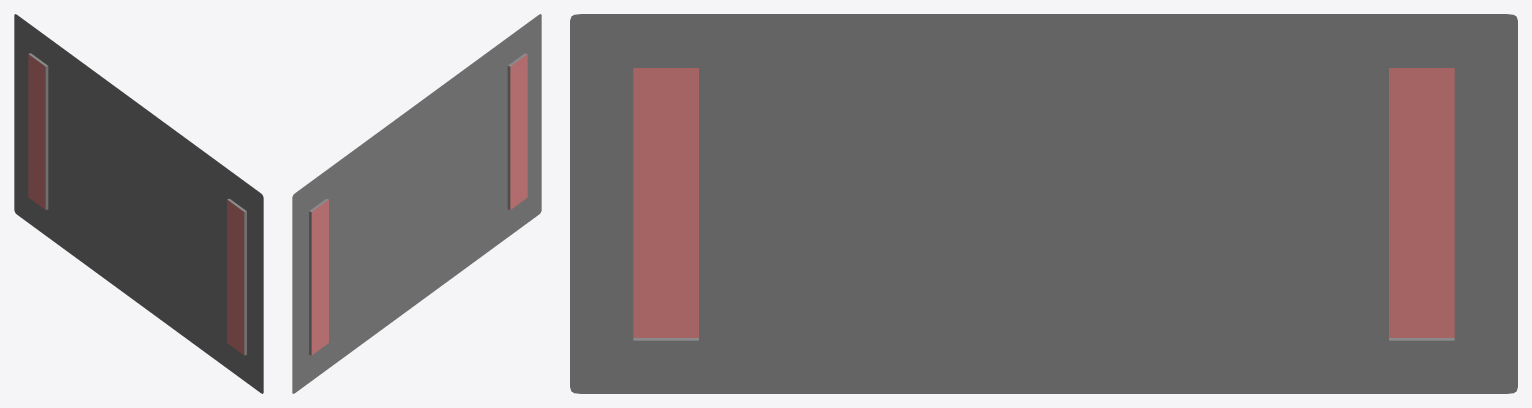
Rendered from specchio.FBX.
3 renders of one model, left to right at view 1: azimuth 30°, elevation 25°; view 2: azimuth 150°, elevation 25°; view 3: azimuth 270°, elevation 25°, orthographic. The views are drawn at different scales.
Parts seen in each view (by area): view 1: specchio:Arch_056_015_20; view 2: specchio:Arch_056_015_20; view 3: specchio:Arch_056_015_20.
Part boxes in pixels (bbox=[...]): specchio:Arch_056_015_20: bbox=[14, 14, 263, 393]; specchio:Arch_056_015_20: bbox=[292, 14, 541, 393]; specchio:Arch_056_015_20: bbox=[570, 14, 1517, 393].
Size of the model in its own units: 0.9779 by 67.14 by 152.
